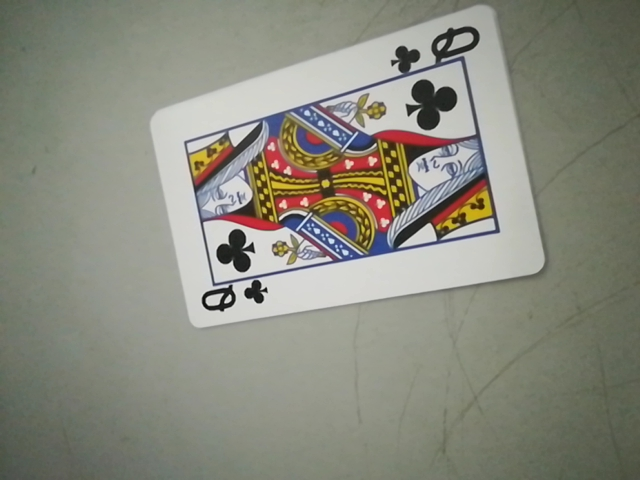mh j: (388, 20, 485, 75), (194, 270, 271, 327)
